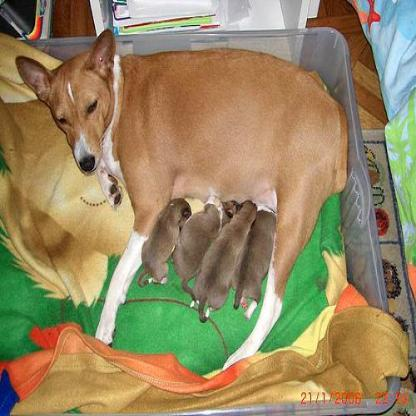basenji: (15, 26, 349, 374)
